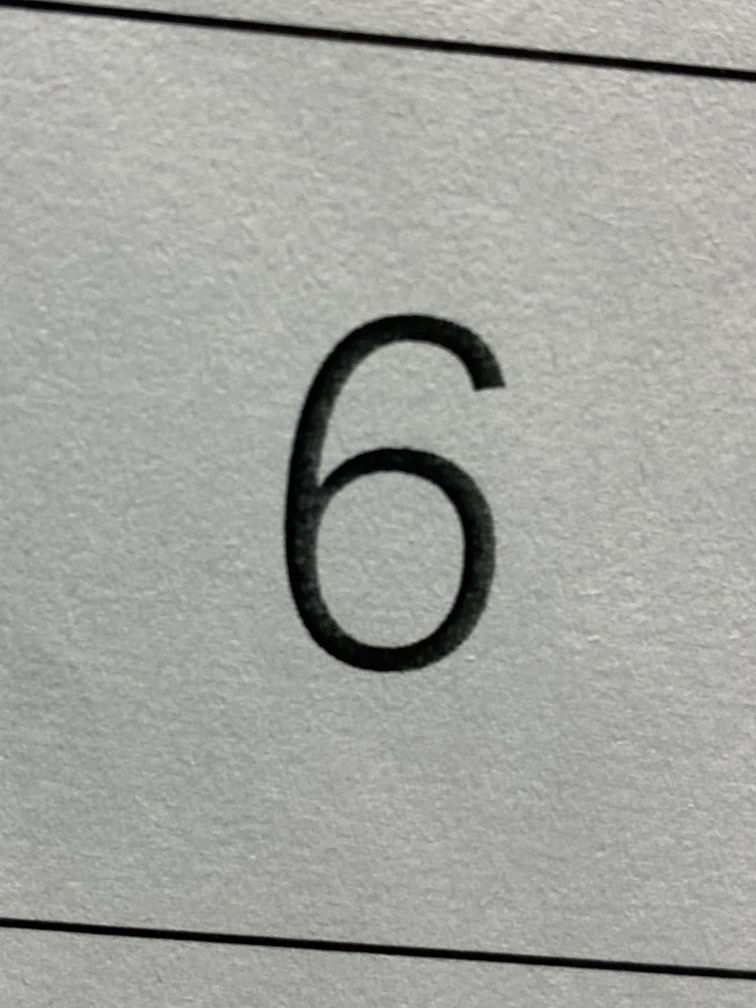six: (194, 240, 587, 747)
